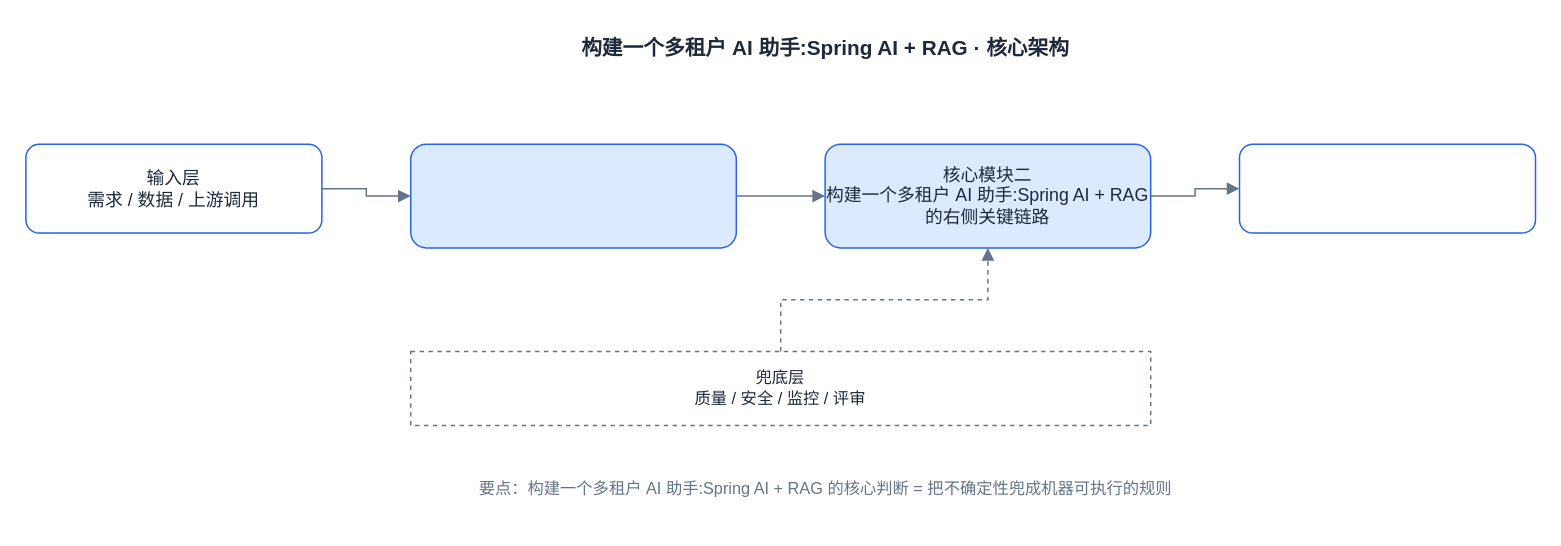
The diagram is 1561 pixels wide and 546 high, and some of its shapes have lost their labels. The shapes that lost their labels are listed below. From the top down, each one's box as (x1, y1, x2, y2) in pixels, then its label:
(409, 143, 736, 248): 核心模块一 构建一个多租户 AI 助手:Spring AI + RAG 的左侧关键链路
(1238, 143, 1536, 233): 输出 / 结果 产物 / 上线 / 反馈
